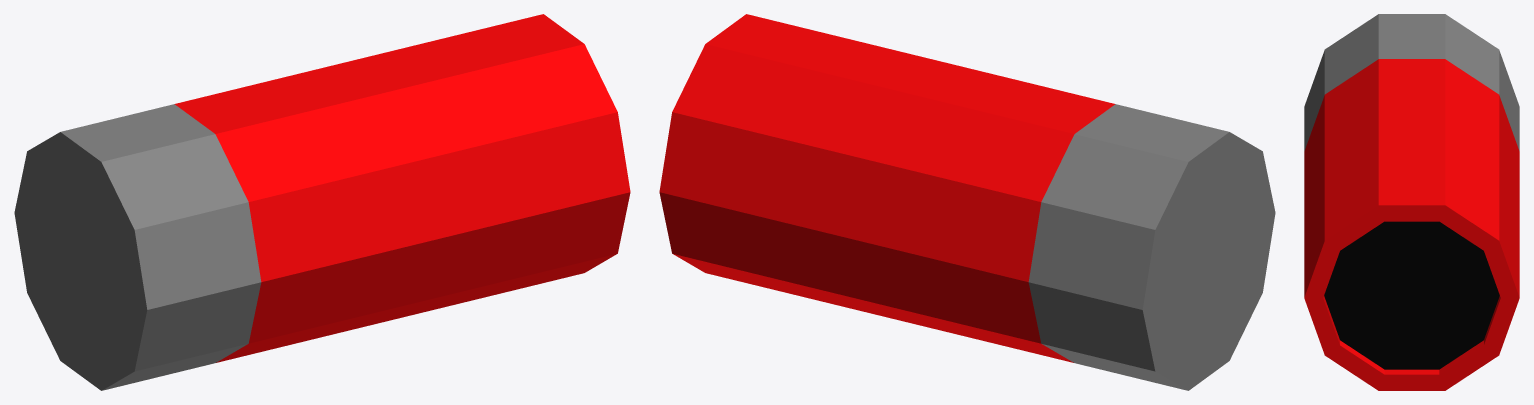
The model's file is shotgun-shell.fbx.
3 renders of one model, left to right at view 1: azimuth 30°, elevation 25°; view 2: azimuth 150°, elevation 25°; view 3: azimuth 270°, elevation 25°, orthographic. The views are drawn at different scales.
Parts seen in each view (by area): view 1: Shell; view 2: Shell; view 3: Shell.
Boxes of the visible parts, bbox=[...] form: Shell: bbox=[14, 14, 630, 390]; Shell: bbox=[659, 14, 1275, 390]; Shell: bbox=[1304, 14, 1519, 390].
Bounding box in the file's own units: 21 × 9.51 × 10.
